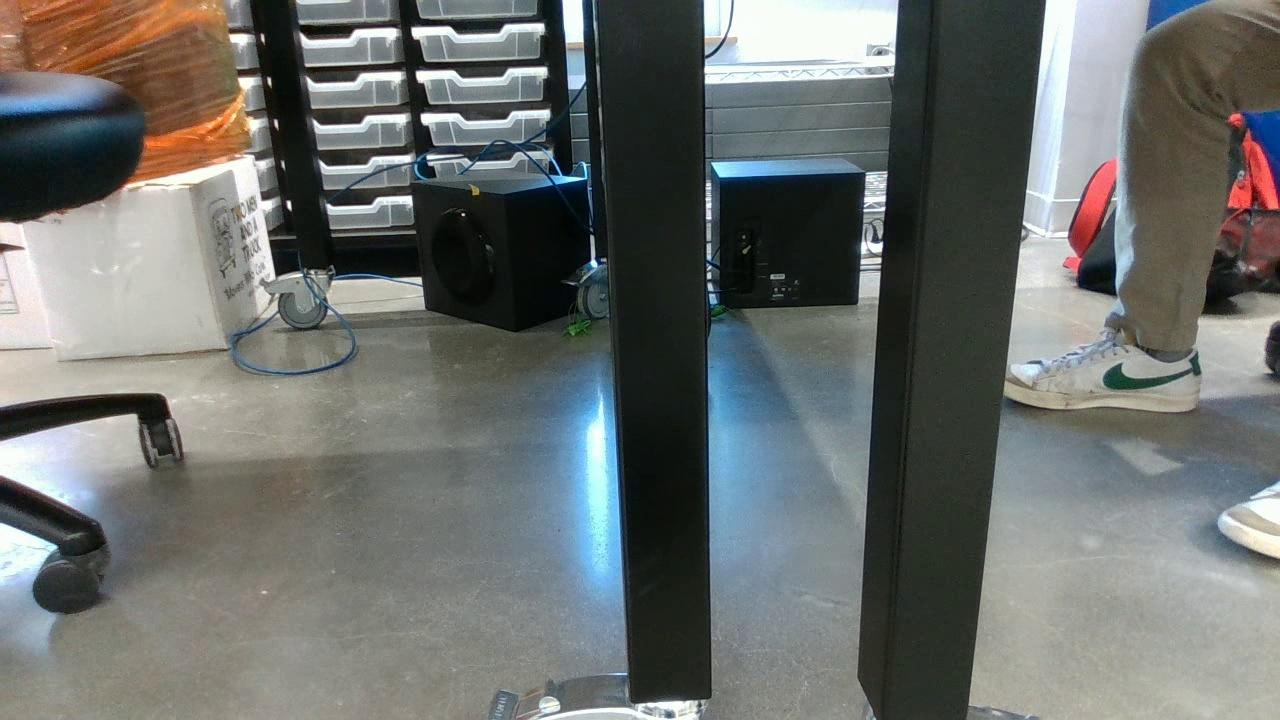grasshopper: (559, 319, 592, 335), (707, 304, 725, 319)
